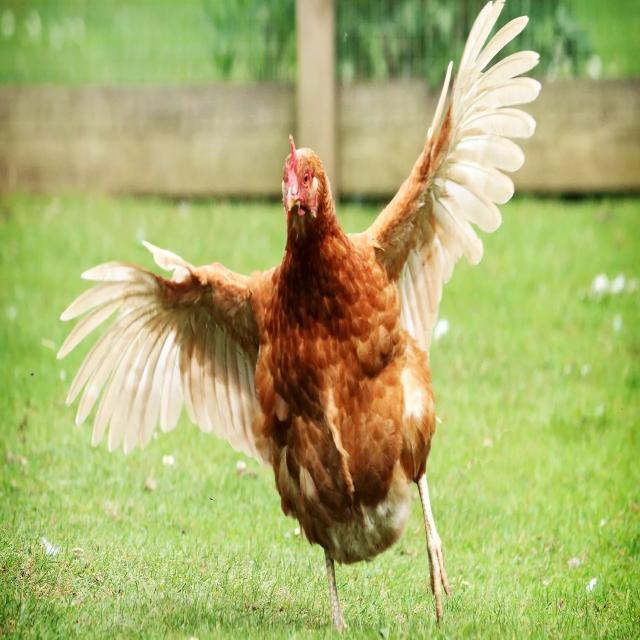wing flap: (69, 0, 549, 640)
